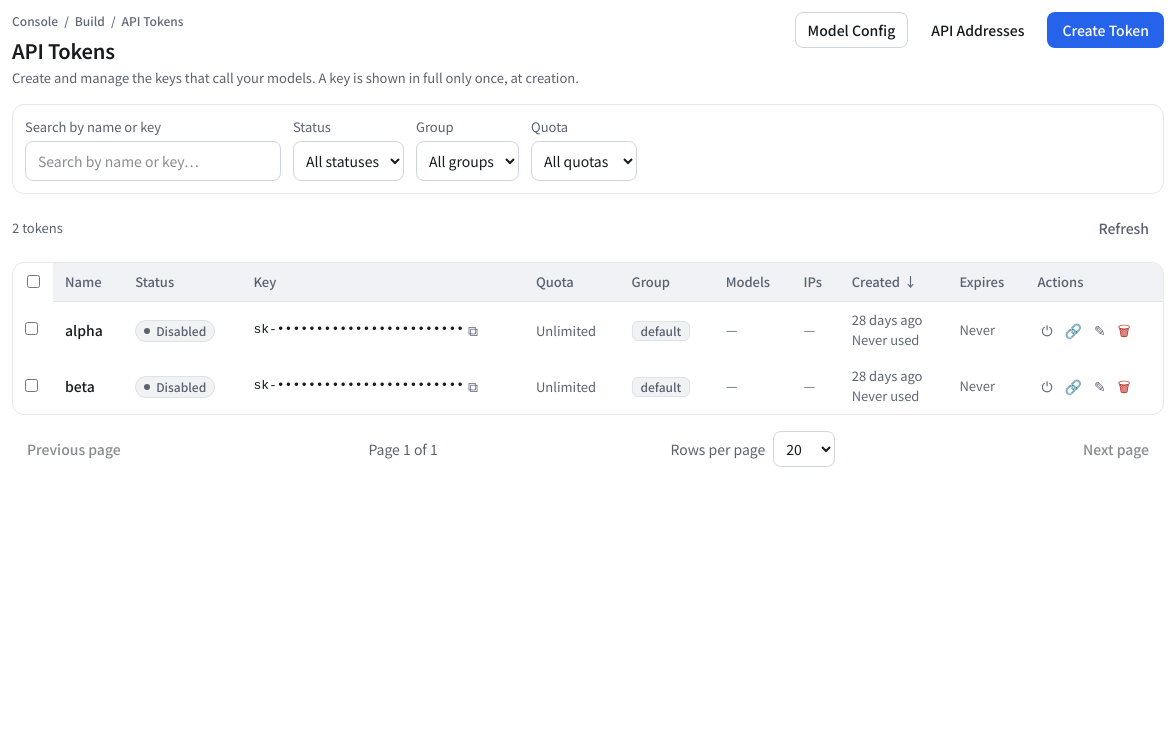
Scenario: TokenListPage › runs batch enable and surfaces per-row partial failures
Expected: the text "alpha" is shown, [53,301,123,358]
Click the checkbox named "Select alpha" at (32, 329), box [25,322,38,335]
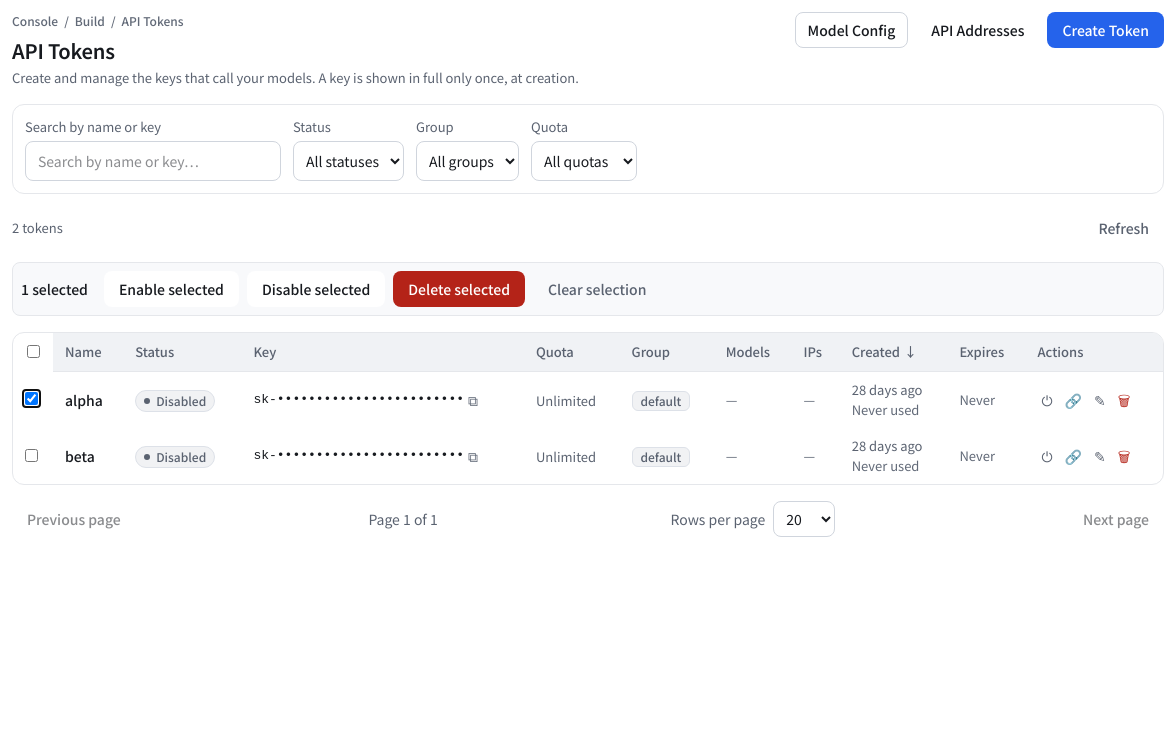
Click the checkbox named "Select beta" at (32, 455), box [25,448,38,462]
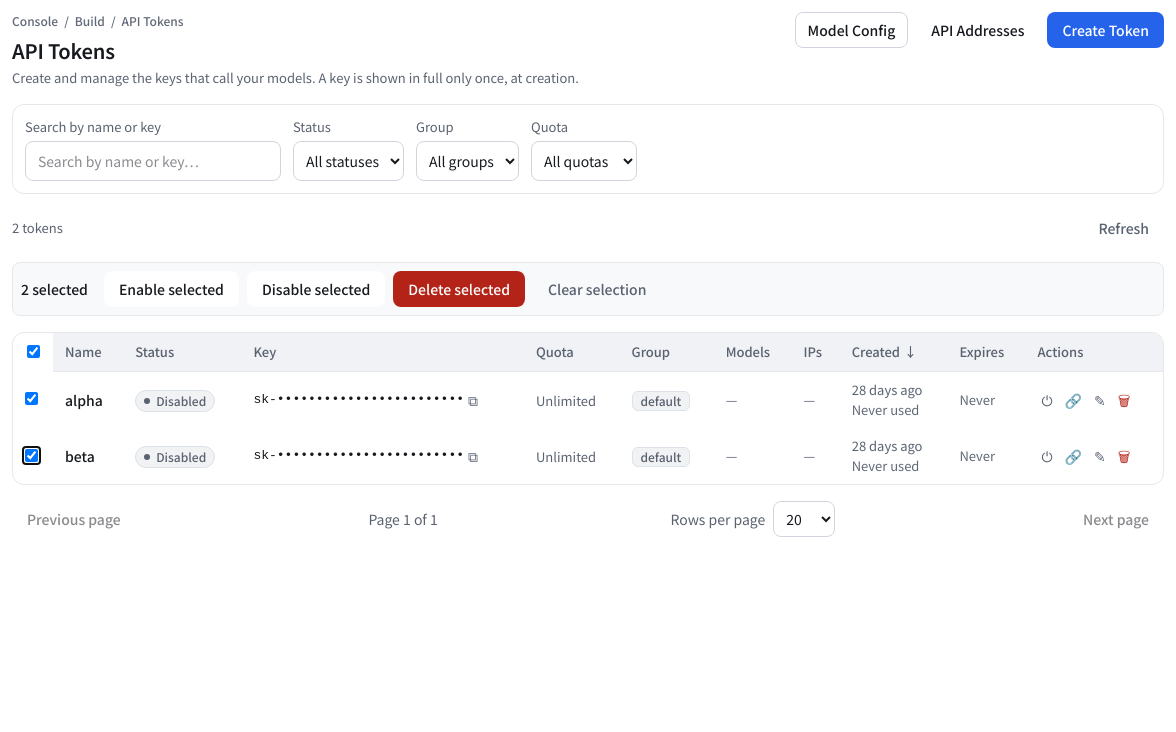
Expected: the text "2 selected" is shown, [21,278,88,300]
Click the button "Enable selected" at (171, 289), box [104,271,239,307]
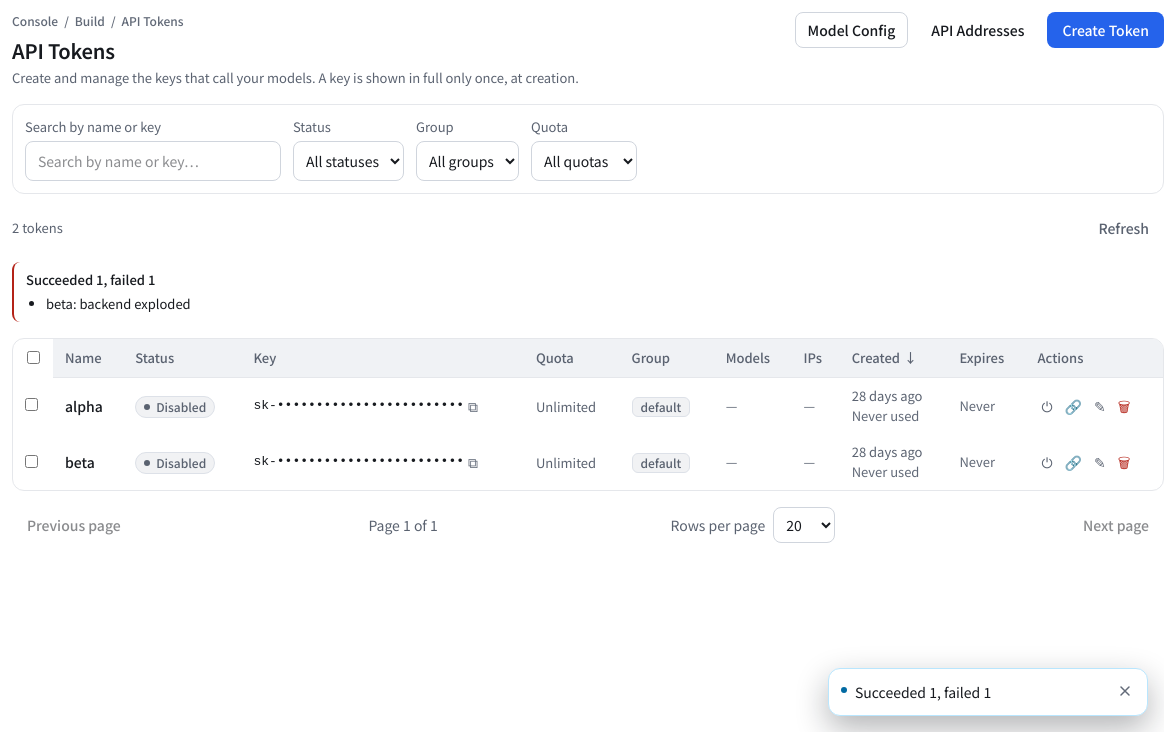
Expected: the message with test id "batch-failures" shows "Succeeded 1, failed 1", [26,270,155,289]
Expected: the message with test id "batch-failures" shows "beta", [46,294,80,313]
Expected: the message with test id "batch-failures" shows "backend exploded", [80,294,191,313]
